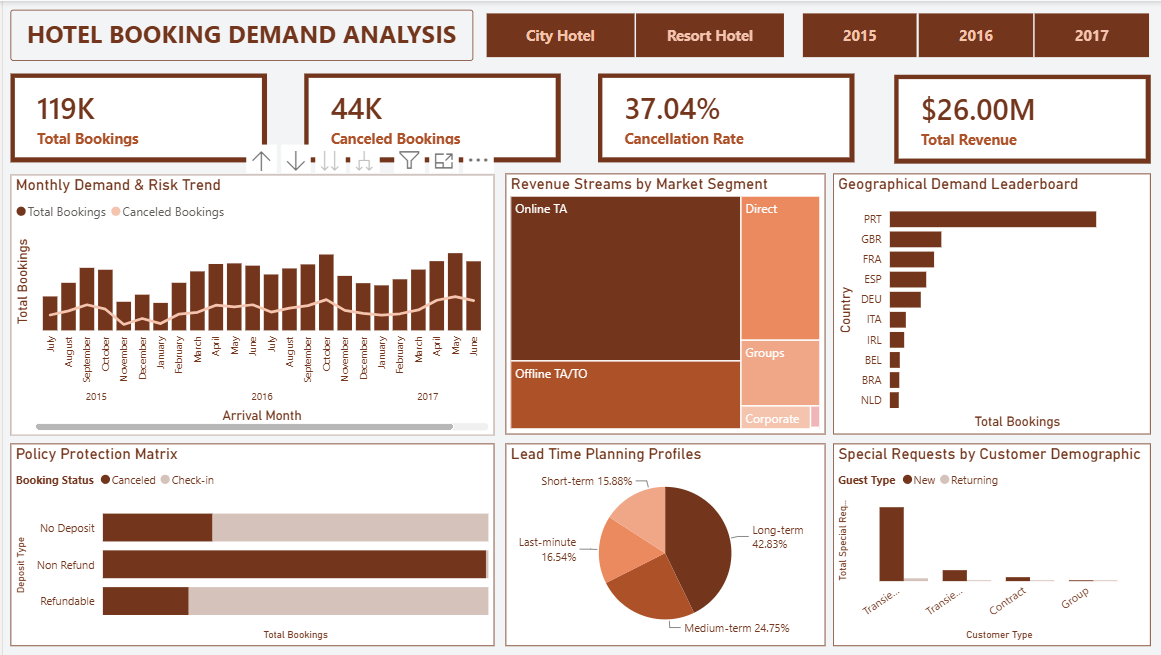

The page's visual inventory and layout, read from the dashboard file:
{"tool":"powerbi","page":{"name":"Page 1","canvas":[1280,720],"ordinal":0},"visuals":[{"type":"textbox","box":[8.2,9.6,507.7,56.3],"z":0},{"type":"slicer","fields":{"Values":["hotel_bookings.hotel"]},"box":[507.7,9.6,370.5,56.3],"z":1000},{"type":"slicer","fields":{"Values":["hotel_bookings.arrival_date_year"]},"box":[854.9,9.6,424,56.3],"z":2000},{"type":"cardVisual","fields":{"Data":["_All Measures.Total Bookings"]},"box":[8.2,79.6,281.3,97.4],"z":3000},{"type":"cardVisual","fields":{"Data":["_All Measures.Total Revenue"]},"box":[978.4,81,281.3,97.4],"z":4000},{"type":"cardVisual","fields":{"Data":["_All Measures.Cancellation Rate"]},"box":[653.2,79.6,281.3,97.4],"z":5000},{"type":"cardVisual","fields":{"Data":["_All Measures.Canceled Bookings"]},"box":[330.7,79.6,281.3,97.4],"z":6000},{"type":"lineClusteredColumnComboChart","title":"Monthly Demand & Risk Trend","fields":{"Category":["hotel_bookings.arrival_date_year","hotel_bookings.arrival_date_month"],"Y":["_All Measures.Total Bookings"],"Y2":["_All Measures.Canceled Bookings"]},"box":[8.2,190.7,531,286.8],"z":6001},{"type":"treemap","title":"Revenue Streams by Market Segment","fields":{"Group":["hotel_bookings.market_segment"],"Values":["_All Measures.Total Revenue"]},"box":[551.6,189.4,351.3,286.8],"z":6002},{"type":"clusteredBarChart","title":"Geographical Demand Leaderboard","fields":{"Category":["hotel_bookings.country"],"Y":["_All Measures.Total Bookings"]},"box":[911.2,189.4,348.5,286.8],"z":6003},{"type":"hundredPercentStackedBarChart","title":"Policy Protection Matrix","fields":{"Category":["hotel_bookings.deposit_type"],"Y":["_All Measures.Total Bookings"],"Series":["hotel_bookings.Booking Status"]},"box":[8.2,485.8,531,222.3],"z":6004},{"type":"pieChart","title":"Lead Time Planning Profiles","fields":{"Category":["hotel_bookings.Lead Time Bucket"],"Y":["_All Measures.Total Bookings"]},"box":[551.6,485.8,351.3,222.3],"z":6005},{"type":"clusteredColumnChart","title":"Special Requests by Customer Demographic","fields":{"Category":["hotel_bookings.customer_type"],"Y":["Sum(hotel_bookings.total_of_special_requests)"],"Series":["hotel_bookings.Guest Type"]},"box":[911.2,485.8,348.5,222.3],"z":6006}]}

Visuals, with their boxes in screenshot pixels (x1, y1, x2, y2), scaled from the page's 1280x720 canvas onto the 1161x655 screenshot:
textbox: [7, 9, 468, 60]
slicer - hotel_bookings.hotel: [460, 9, 797, 60]
slicer - hotel_bookings.arrival_date_year: [775, 9, 1160, 60]
cardVisual - _All Measures.Total Bookings: [7, 72, 263, 161]
cardVisual - _All Measures.Total Revenue: [887, 74, 1143, 162]
cardVisual - _All Measures.Cancellation Rate: [592, 72, 848, 161]
cardVisual - _All Measures.Canceled Bookings: [300, 72, 555, 161]
"Monthly Demand & Risk Trend" lineClusteredColumnComboChart: [7, 173, 489, 434]
"Revenue Streams by Market Segment" treemap: [500, 172, 819, 433]
"Geographical Demand Leaderboard" clusteredBarChart: [826, 172, 1143, 433]
"Policy Protection Matrix" hundredPercentStackedBarChart: [7, 442, 489, 644]
"Lead Time Planning Profiles" pieChart: [500, 442, 819, 644]
"Special Requests by Customer Demographic" clusteredColumnChart: [826, 442, 1143, 644]
